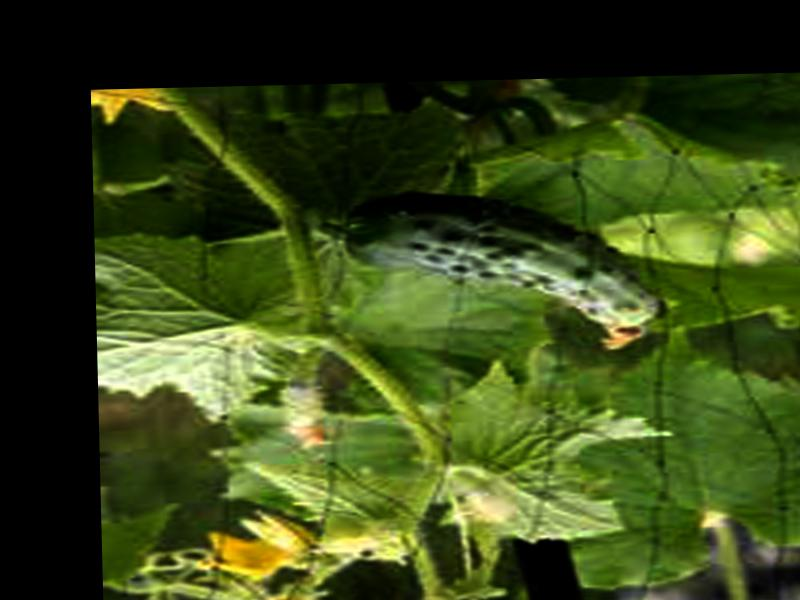Cucumber: (336, 188, 664, 357)
